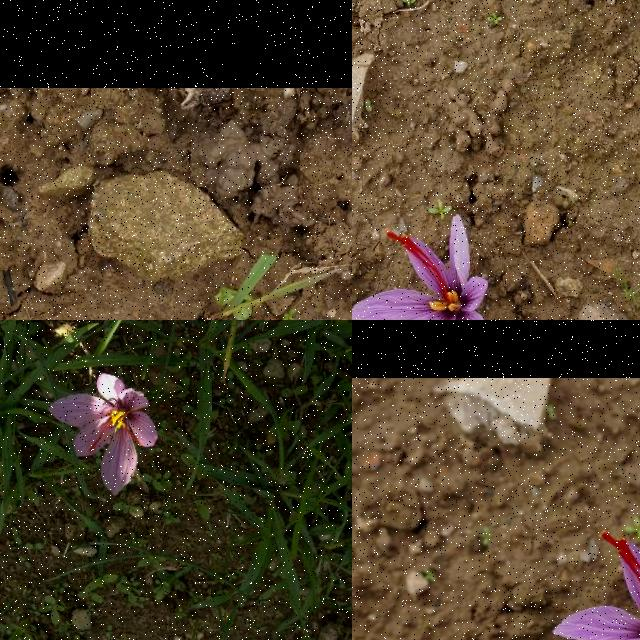flower: (352, 215, 488, 320), (47, 374, 159, 496), (553, 512, 640, 640)
